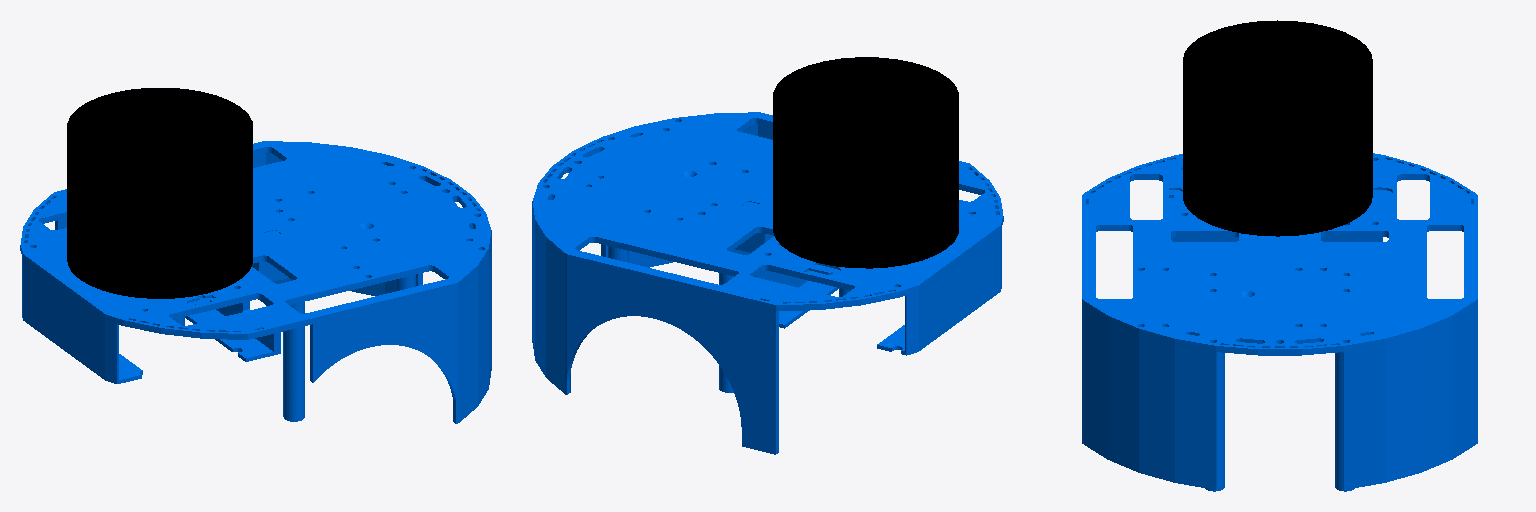
robot.urdf — usafabot:
<?xml version='1.0'?>

<robot name="usafabot">

<!-- * * * Link Definitions * * * -->
        <link name="base_footprint"/>

        <link name="imu_link"/>

	<link name="base_link">
	<visual>
	  <origin xyz="0 0 0.005" rpy="1.5708 0 1.5708" />
	  <geometry>
		  <mesh filename="package://usafabot/meshes/bottom_chassis.stl" scale=".001 .001 .001"/>
	  </geometry>
	  <material name="black">
		<color rgba="0 0 0 1"/>
	  </material>
	</visual>
	</link>

	<link name="top_chassis">
	<visual>
	  <origin xyz="0 0 0" rpy="0 0 1.5708" />
	  <geometry>
		<mesh filename="package://usafabot/meshes/top_chassis.stl" scale=".001 .001 .001"/>
	  </geometry>
	  <material name="blue">
		<color rgba="0 .5 1 1"/>
	  </material>
	</visual>
	</link>

	<link name="right_wheel">
	<visual>
	  <origin xyz="0 0 0" rpy="0 0 1.5708" />
	  <geometry>
		<mesh filename="package://usafabot/meshes/rviz_wheel1.stl" scale=".001 .001 .001"/>
	  </geometry>
	  <material name="grey">
		<color rgba=".5 .5 .5 1"/>
	  </material>
	</visual>
	</link>

	<link name="left_wheel">
	<visual>
	  <origin xyz="0 0 0" rpy="0 3.1415 1.5708" />
	  <geometry>
		<mesh filename="package://usafabot/meshes/rviz_wheel2.stl" scale=".001 .001 .001"/>
	  </geometry>
	  <material name="grey">
		<color rgba=".5 .5 .5 1"/>
	  </material>
	</visual>
	</link>
  
	<link name="laser">
	<visual>
	  <origin xyz="0 0 0" rpy="0 0 0" />
	  <geometry>
		<cylinder radius="0.035" length="0.055"/>
	  </geometry>
	  <material name="black">
		<color rgba="0 0 0 1"/>
	  </material>
	</visual>
	</link>
 
	<!-- * * * Joint Definitions * * * -->
        <joint name="base_joint" type="fixed">
                <parent link="base_footprint"/>
		<child link ="base_link"/>
		<origin xyz="0.0 0.0 0.005" rpy="0 0 0"/>
	</joint>		

        <joint name="joint_top_chassis" type="fixed">
		<parent link="base_link"/>
		<child link="top_chassis"/>
	</joint>
	
	<joint name="joint_left_wheel" type="continuous">
		<parent link="base_link"/>
		<child link="left_wheel"/>
		<origin xyz="0 -.0728 0" rpy="0 0 0" />
		<axis xyz="1 0 0" />
	</joint>
	
	<joint name="joint_right_wheel" type="continuous">
		<parent link="base_link"/>
		<child link="right_wheel"/>
		<origin xyz="0 .0728 0" rpy="0 0 0" />
		<axis xyz="1 0 0" />
	</joint>

	<joint name="joint_lidar" type="fixed">
		<parent link="base_link" />
		<child link="laser" />
		<origin xyz="-.05 0 0.0825" rpy="0 0 -1.5708" />
	</joint>

	<joint name="joint_imu" type="fixed">
		<parent link="base_link" />
		<child link="imu_link" />
		<origin xyz="0 0 .05" rpy="0 0 0" />
	</joint>
</robot>

--- Render facts (derived) ---
3 views of the same robot in one strip: view 1: azimuth 30°, elevation 25°; view 2: azimuth 150°, elevation 25°; view 3: azimuth 270°, elevation 25° (orthographic).
Model usafabot with 7 links and 6 joints (2 continuous, 4 fixed), rooted at base_footprint, posed all joints at 0.
Visible links, largest first — view 1: top_chassis, laser; view 2: top_chassis, laser; view 3: top_chassis, laser.
Boxes of the visible links, bbox=[...] form: top_chassis: bbox=[20, 141, 491, 423]; laser: bbox=[67, 88, 252, 298]; top_chassis: bbox=[532, 112, 1003, 454]; laser: bbox=[773, 57, 958, 268]; top_chassis: bbox=[1082, 153, 1477, 491]; laser: bbox=[1183, 20, 1372, 236].
Size in the robot's own frame: 0.1721 by 0.1455 by 0.1179 metres.
1 mesh visuals loaded from 4 distinct referenced files (1 binary STL); not drawn: 3 (reference not matched to a file when rendering).